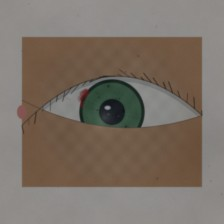hemorrhage_spot: (71, 73, 136, 125)
